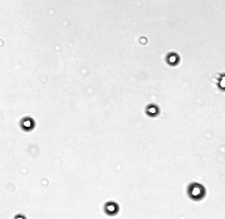Living Cell: (188, 183, 206, 201), (20, 116, 35, 131), (165, 51, 180, 66), (104, 200, 119, 215), (145, 103, 159, 117), (138, 35, 148, 45)
